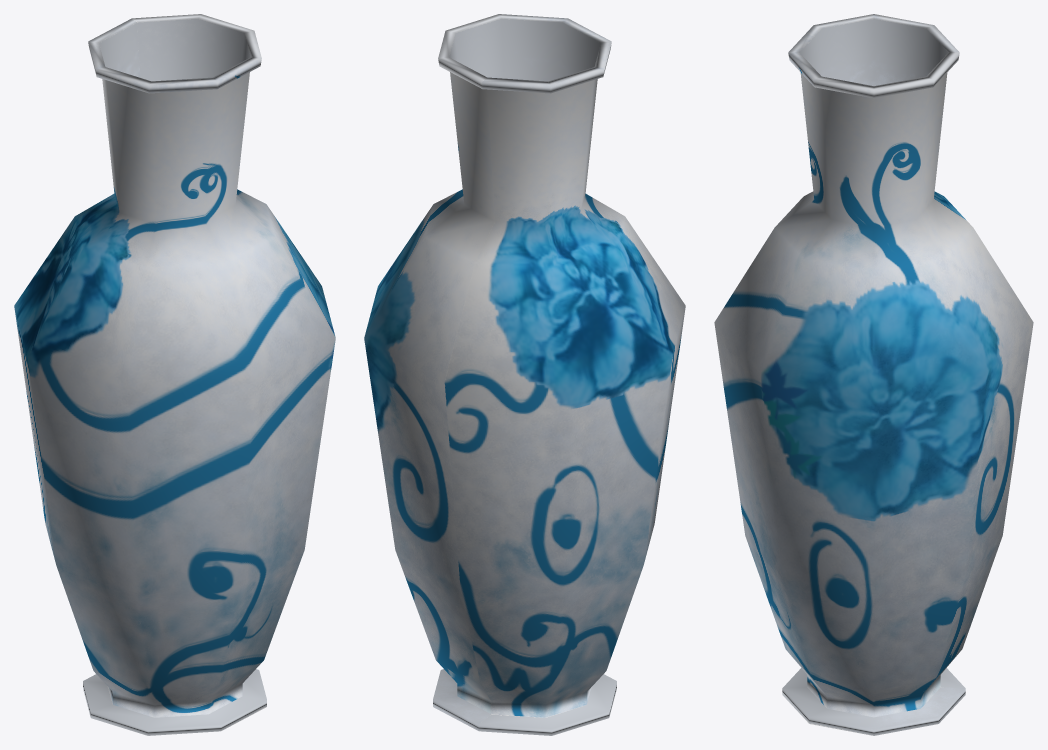
File: vase.fbx
The picture shows the model from 3 angles, left to right: view 1: azimuth 30°, elevation 25°; view 2: azimuth 150°, elevation 25°; view 3: azimuth 270°, elevation 25°; orthographic projection.
Parts seen in each view (by area): view 1: Mesh; view 2: Mesh; view 3: Mesh.
Boxes of the visible parts, bbox=[...] form: Mesh: bbox=[14, 14, 335, 735]; Mesh: bbox=[364, 14, 685, 735]; Mesh: bbox=[714, 14, 1033, 735].
Size of the model in its own units: 24.02 by 50.55 by 22.76.
